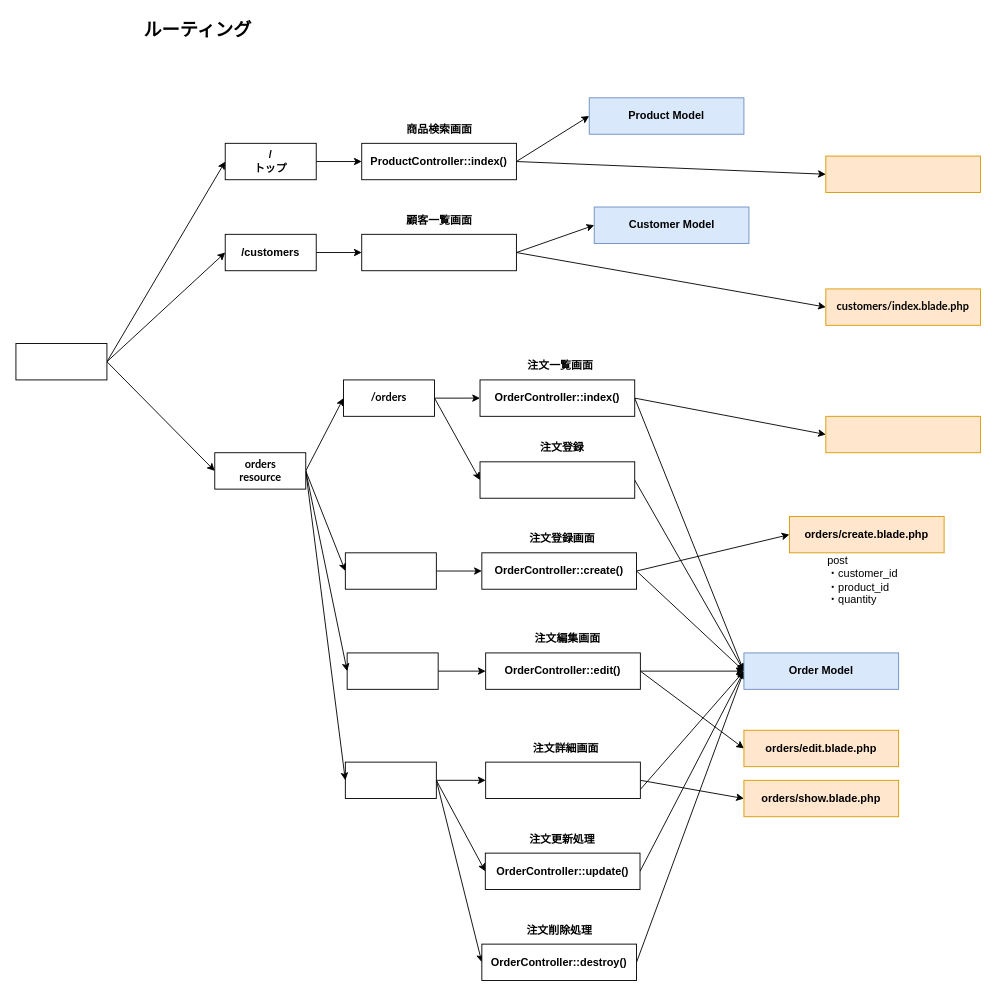
This 996x996 diagram has some shape labels left out. The shapes that lost their labels are listed below. From the top down, each one's box as (x1, y1, x2, y2) in pixels, then its label:
(825, 155, 981, 192): products/index.blade.php
(361, 233, 516, 271): CustomerController::index()
(15, 343, 107, 380): request
(825, 415, 981, 453): orders/index.blade.php
(479, 461, 635, 498): OrderController::store()
(344, 552, 436, 589): /orders/create
(346, 652, 438, 689): /orders/{id}/edit
(344, 761, 436, 799): /orders/{id}
(485, 761, 640, 799): OrderController::show()
